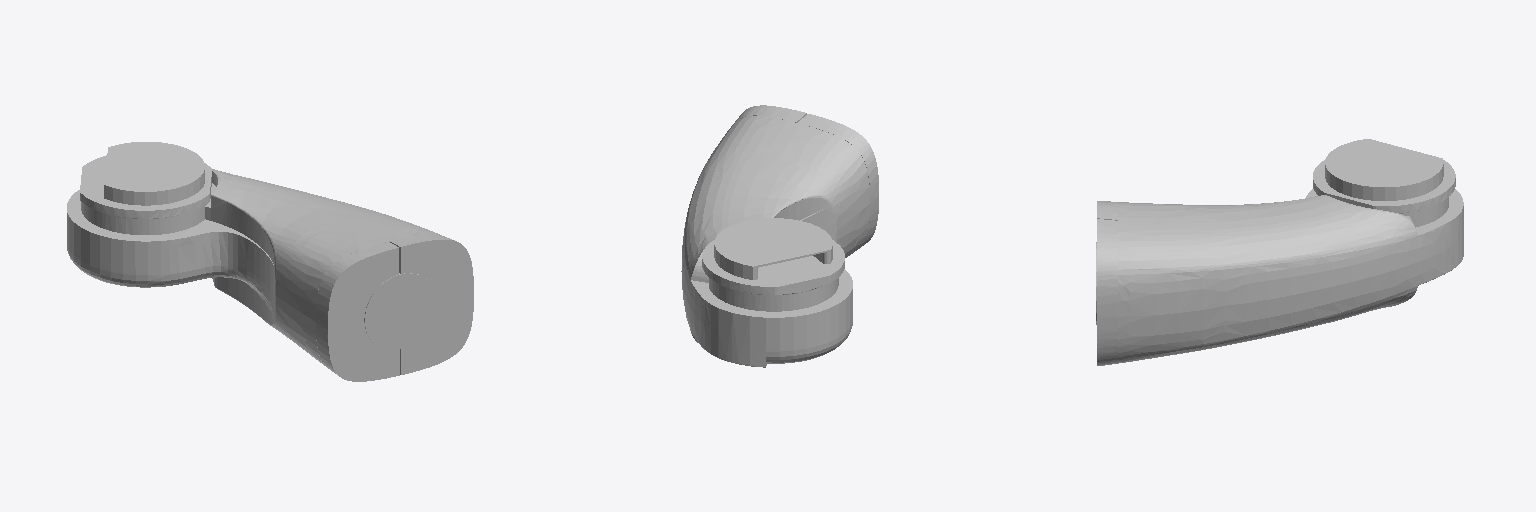
The model's file is right_hip_yaw_link_visuals.obj.
3 views of the same model, side by side, from view 1: azimuth 30°, elevation 25°; view 2: azimuth 150°, elevation 25°; view 3: azimuth 270°, elevation 25° (orthographic).
Bounding box in the file's own units: 0.1796 × 0.0887 × 0.2262.